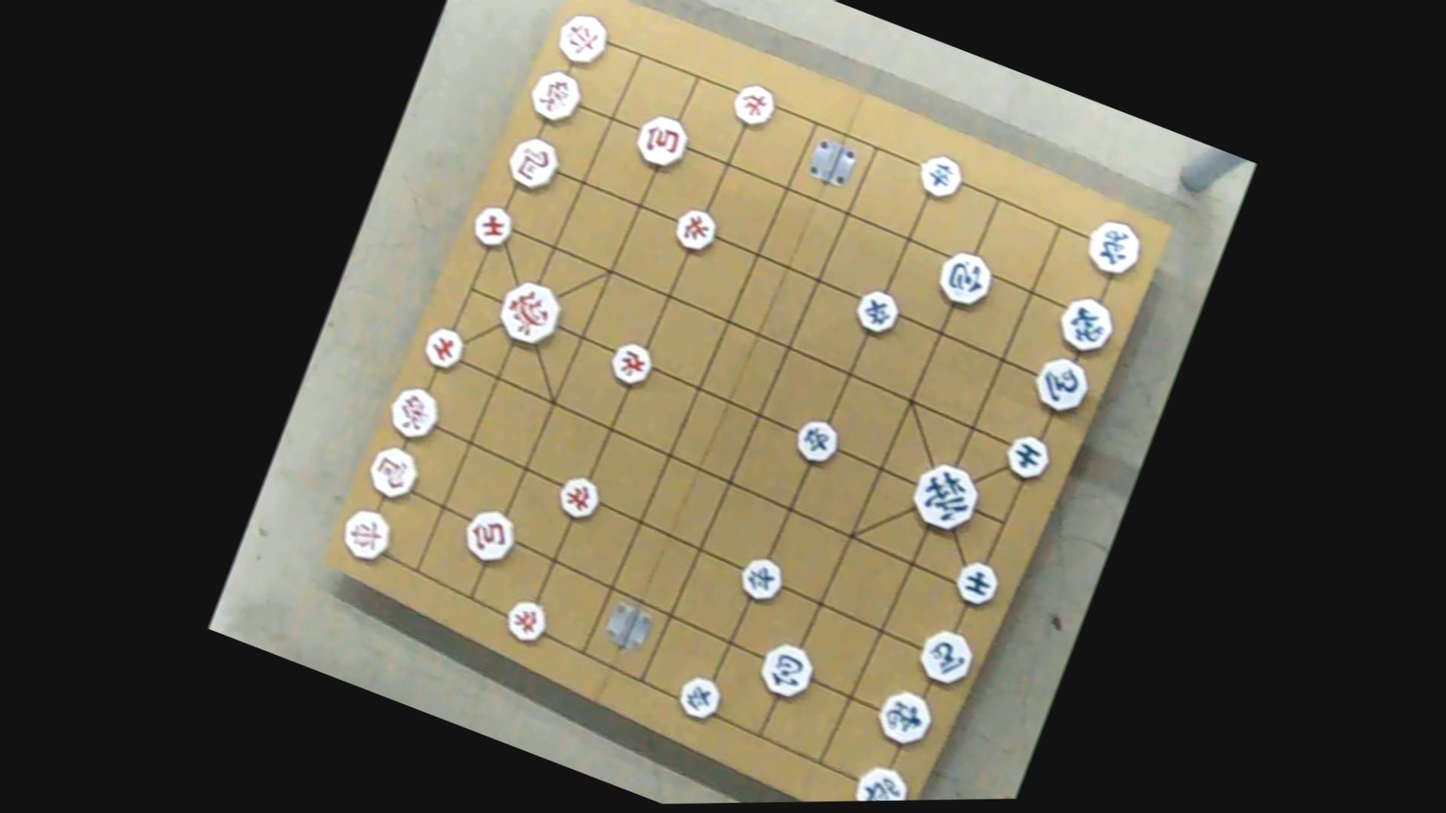cha_green: (1076, 212, 1149, 282), (848, 758, 914, 801)
cha_red: (337, 500, 399, 567), (552, 6, 613, 71)
jol_green: (673, 668, 726, 725), (914, 148, 967, 205), (849, 283, 902, 340), (791, 414, 844, 470), (734, 549, 785, 605)
jol_red: (554, 469, 606, 525), (605, 336, 655, 391), (670, 200, 720, 255), (729, 78, 779, 132), (502, 595, 551, 648)
ma_green: (1027, 348, 1097, 421), (911, 624, 977, 693)
ma_red: (503, 130, 566, 197), (363, 439, 424, 505)
po_green: (754, 638, 821, 707), (935, 243, 999, 312)
po_red: (457, 507, 520, 574), (630, 108, 692, 174)
sa_green: (999, 428, 1054, 485), (948, 557, 1002, 610)
sa_red: (419, 324, 468, 377), (469, 202, 518, 252)
sang_green: (872, 684, 943, 755), (1051, 293, 1119, 358)
sang_red: (385, 379, 448, 446), (525, 63, 588, 130)
wang_green: (906, 455, 986, 537)
wang_red: (491, 276, 566, 355)
